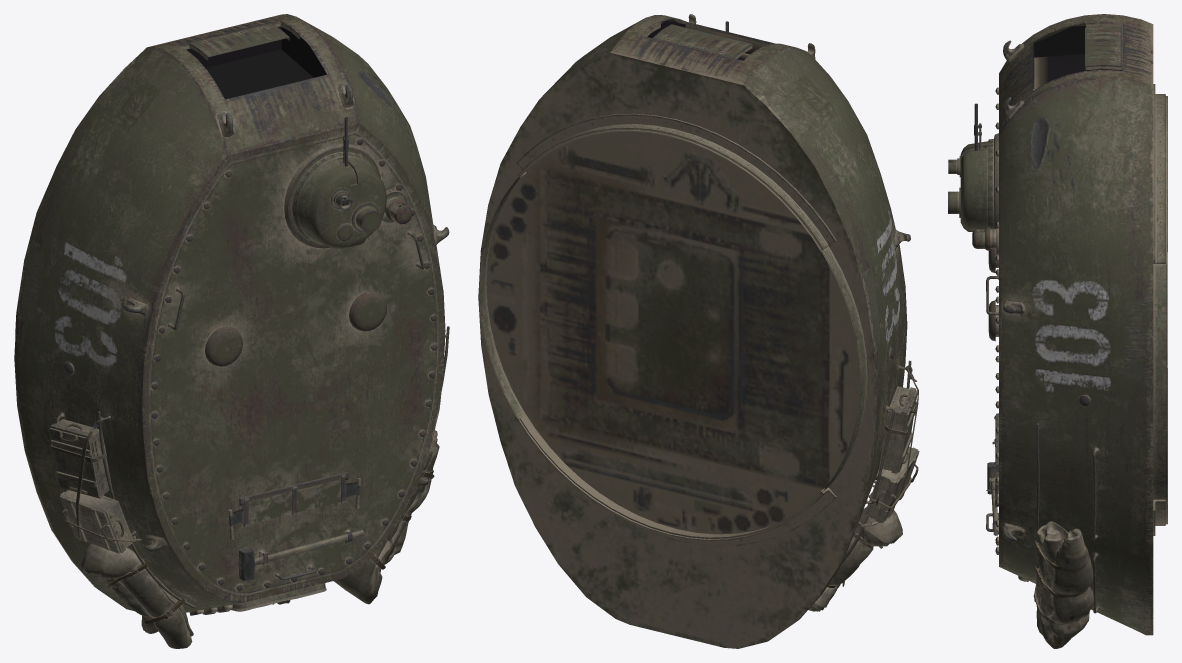
File: Turret_01.glb
The picture shows the model from 3 angles, left to right: view 1: azimuth 30°, elevation 25°; view 2: azimuth 150°, elevation 25°; view 3: azimuth 270°, elevation 25°; orthographic projection. The views are drawn at different scales.
Visible parts, largest first — view 1: set_0_group_0, set_0_group_1; view 2: set_0_group_0, set_0_group_1; view 3: set_0_group_0, set_0_group_1.
Boxes of the visible parts, box(x1,y1,x2,y2) form: set_0_group_0: box(14, 14, 449, 615); set_0_group_1: box(15, 117, 439, 648); set_0_group_0: box(478, 14, 911, 648); set_0_group_1: box(479, 21, 919, 611); set_0_group_0: box(972, 14, 1153, 635); set_0_group_1: box(948, 84, 1167, 648).
Size of the model in its own units: 3.14 by 4.36 by 1.54.
2 materials, 2 textured.
